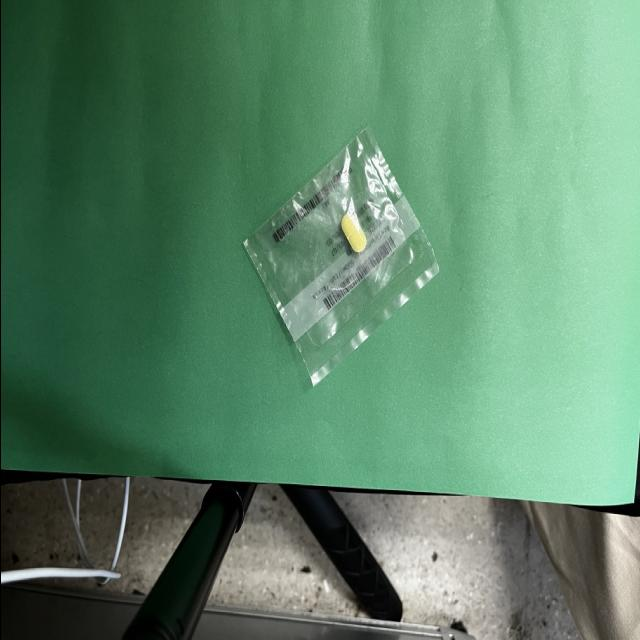Other Objects: (243, 130, 437, 386)
